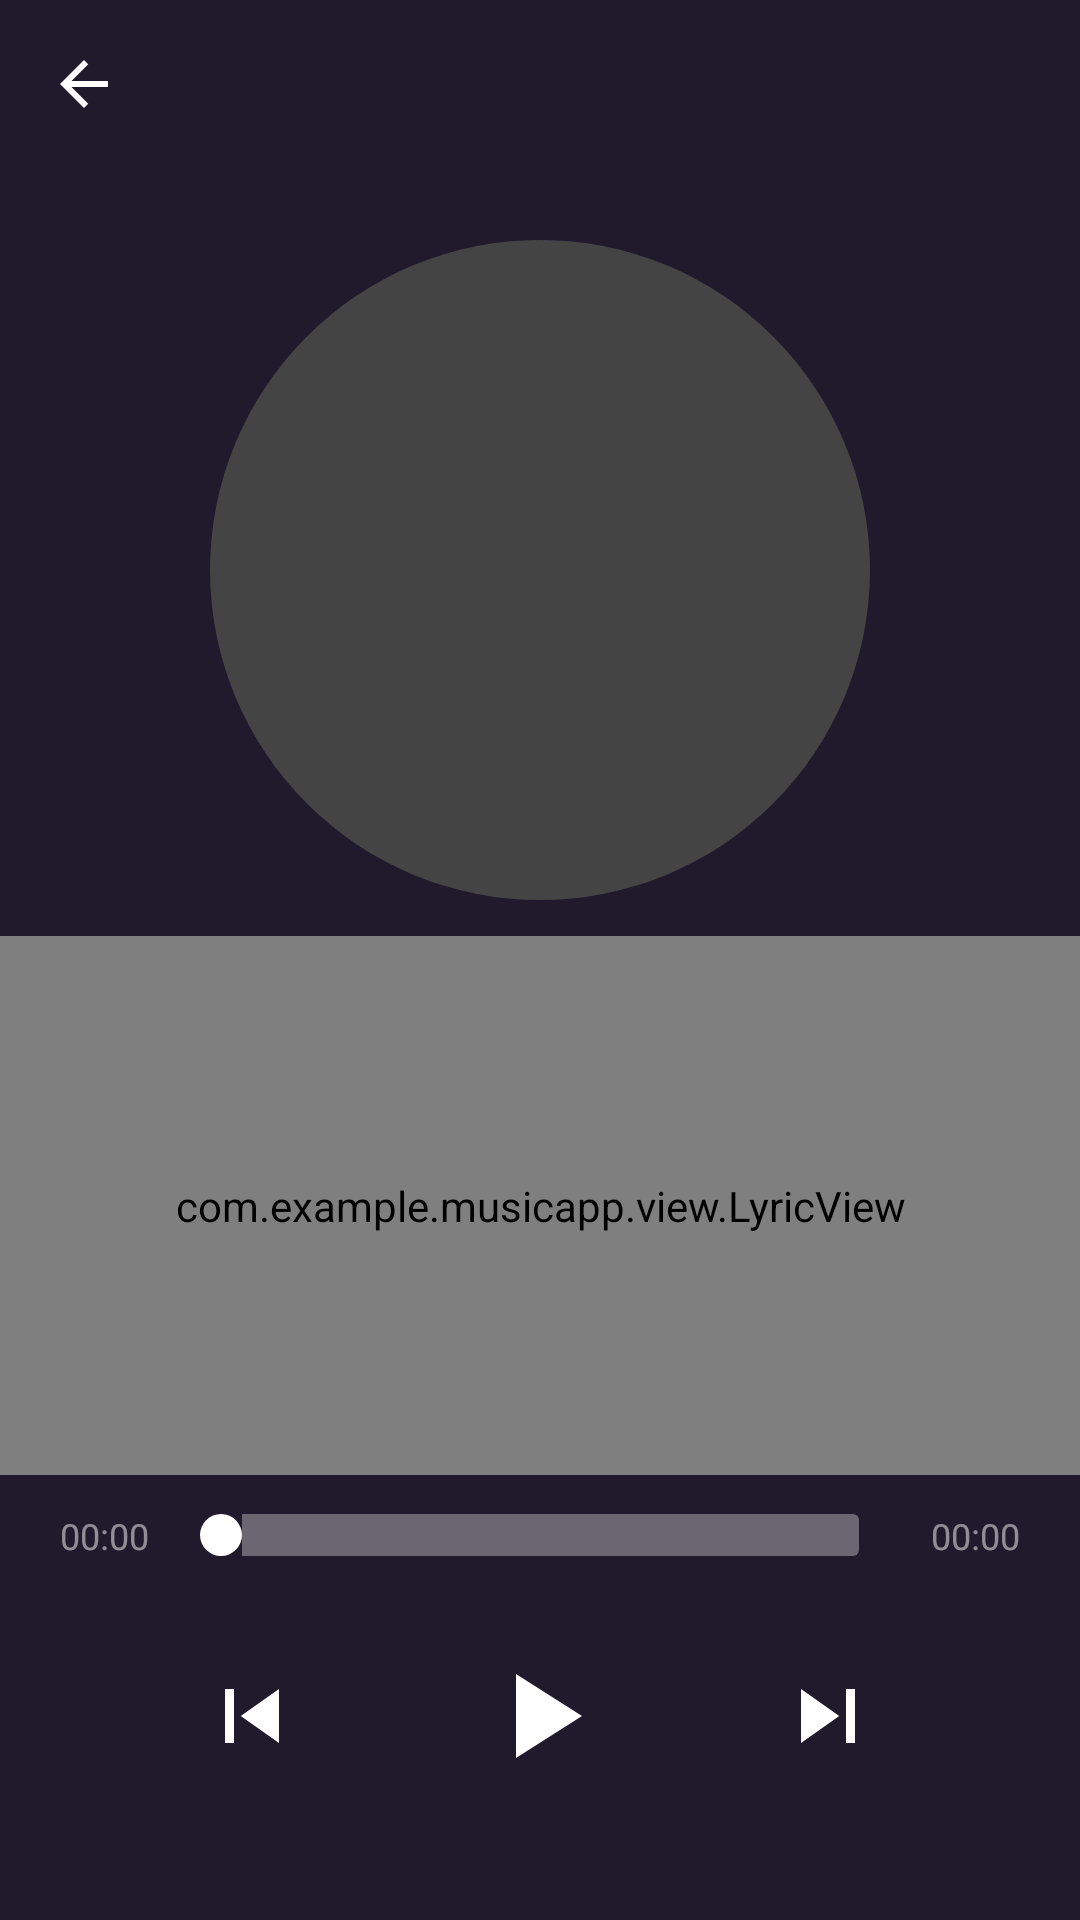

Named icons in this screenshot (1080x1920) and their centers, point (x, y):
上一首: point (252, 1716)
下一首: point (828, 1716)
播放/暂停: point (549, 1716)
返回: point (84, 84)
